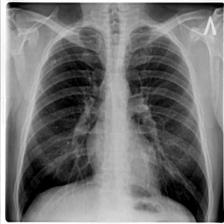tuberculosis: (10, 13, 214, 224)
